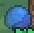slime: (0, 1, 34, 33)
